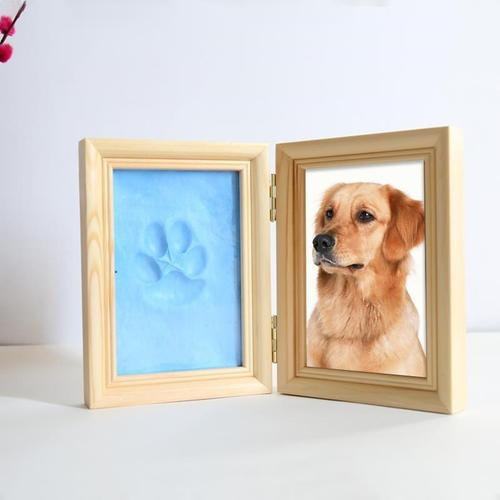dog: (311, 177, 432, 286)
